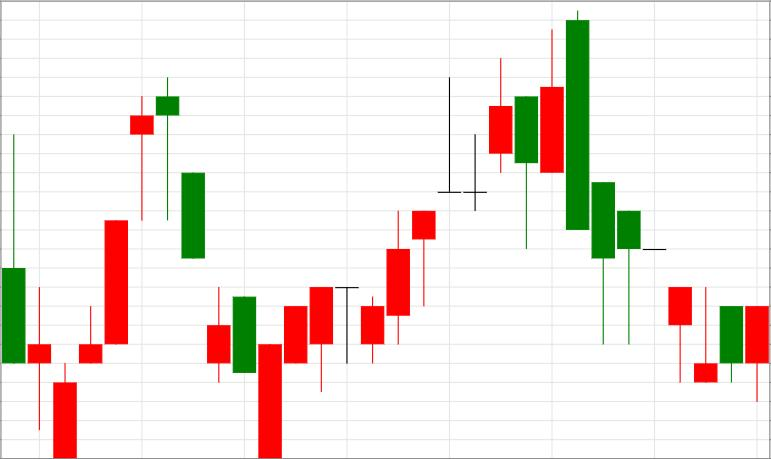bearish_engulfing_fall: (361, 11, 589, 364)
hammer_rise: (567, 10, 692, 382)
inverse_hammer_rise: (566, 10, 718, 382)
three_white_soldiers_rise: (0, 134, 129, 459)
